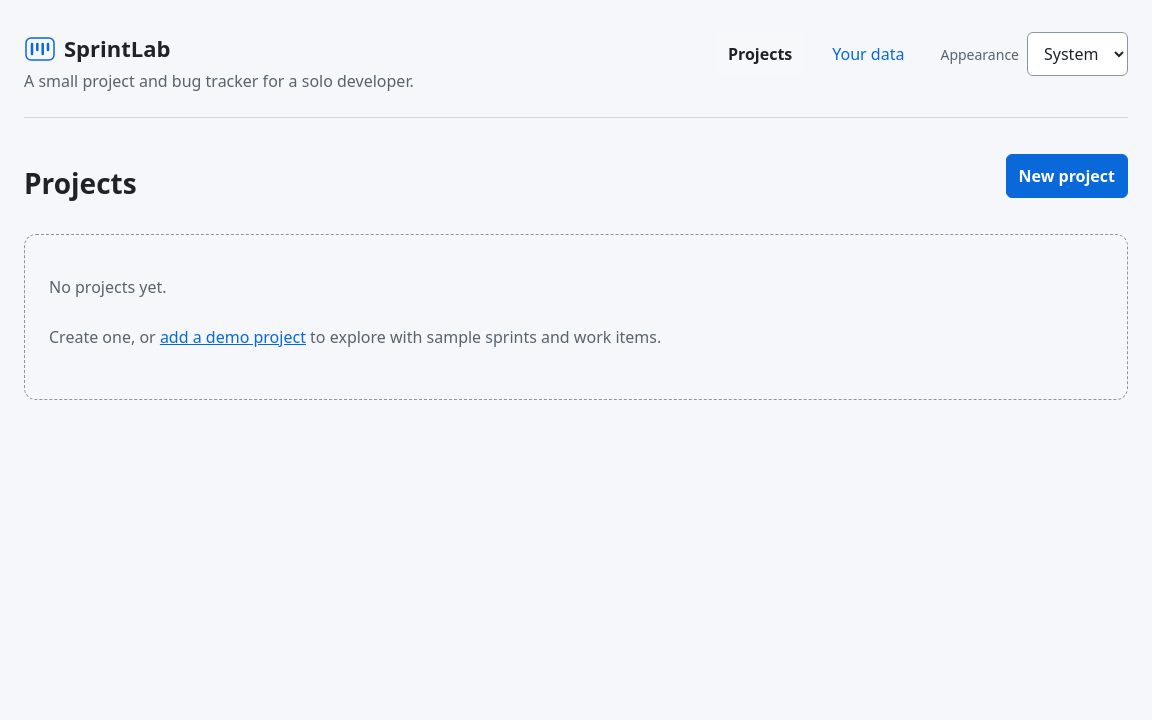
Test case: Projects › edits a project name and updates updatedAt but not createdAt
Click the button "New project": coordinates (1067, 176) [1006,154,1128,198]
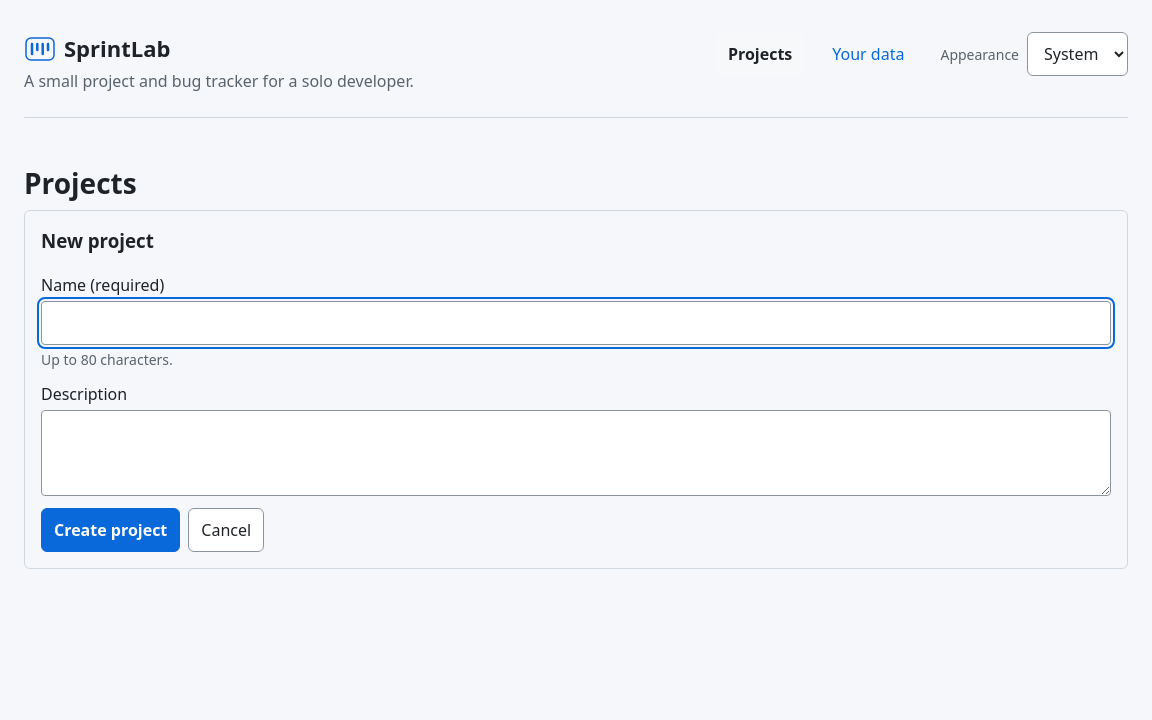
In the field labelled "Name (required)": coordinates (576, 323) [41,301,1111,345], type "Old name"
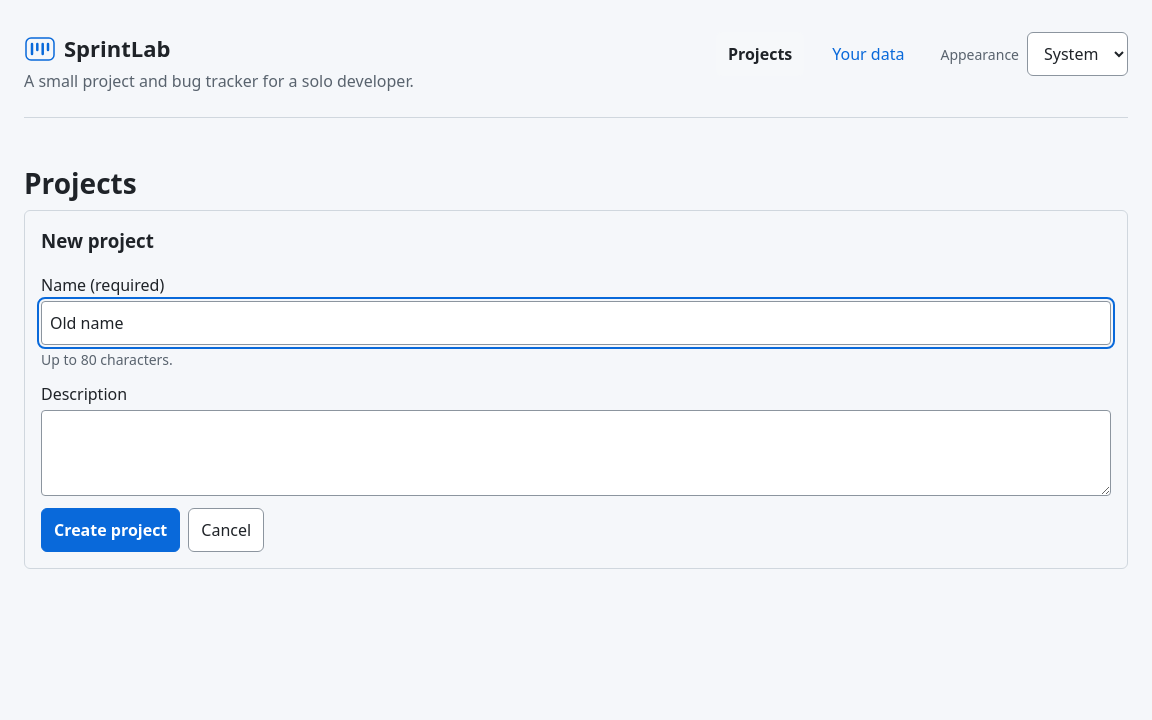
Click the button "Create project": coordinates (111, 530) [41,508,180,552]
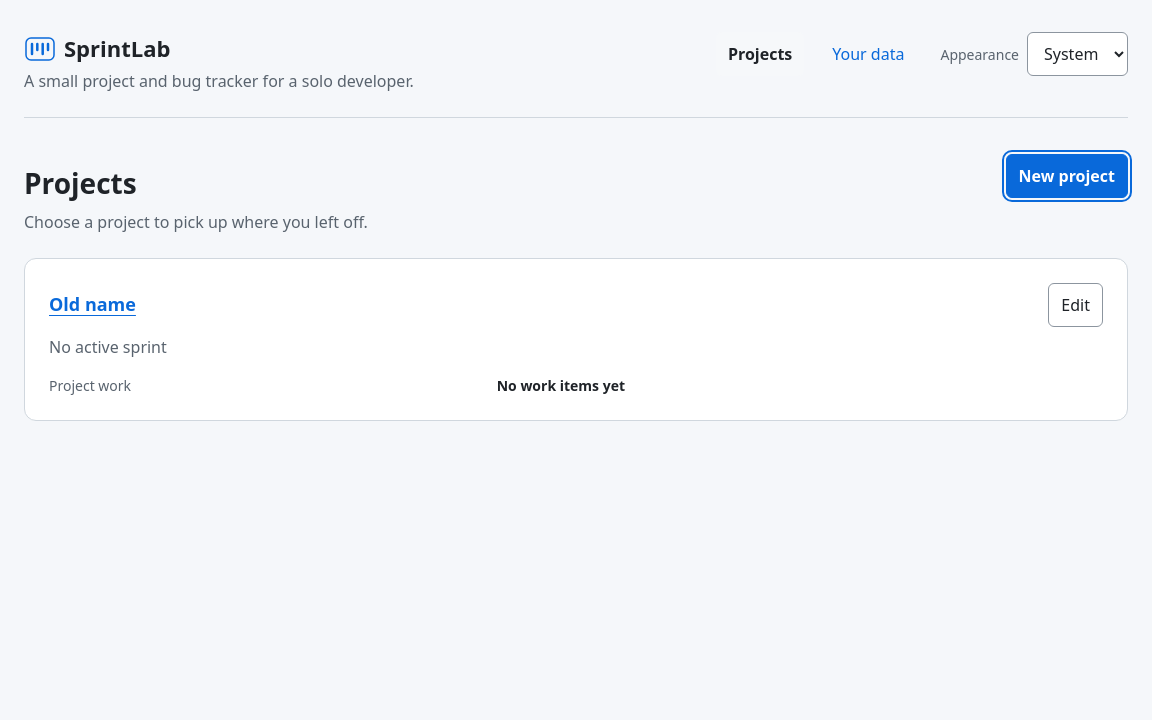
Click the button with aria-label "Edit Old name": coordinates (1076, 305) [1048,283,1103,327]
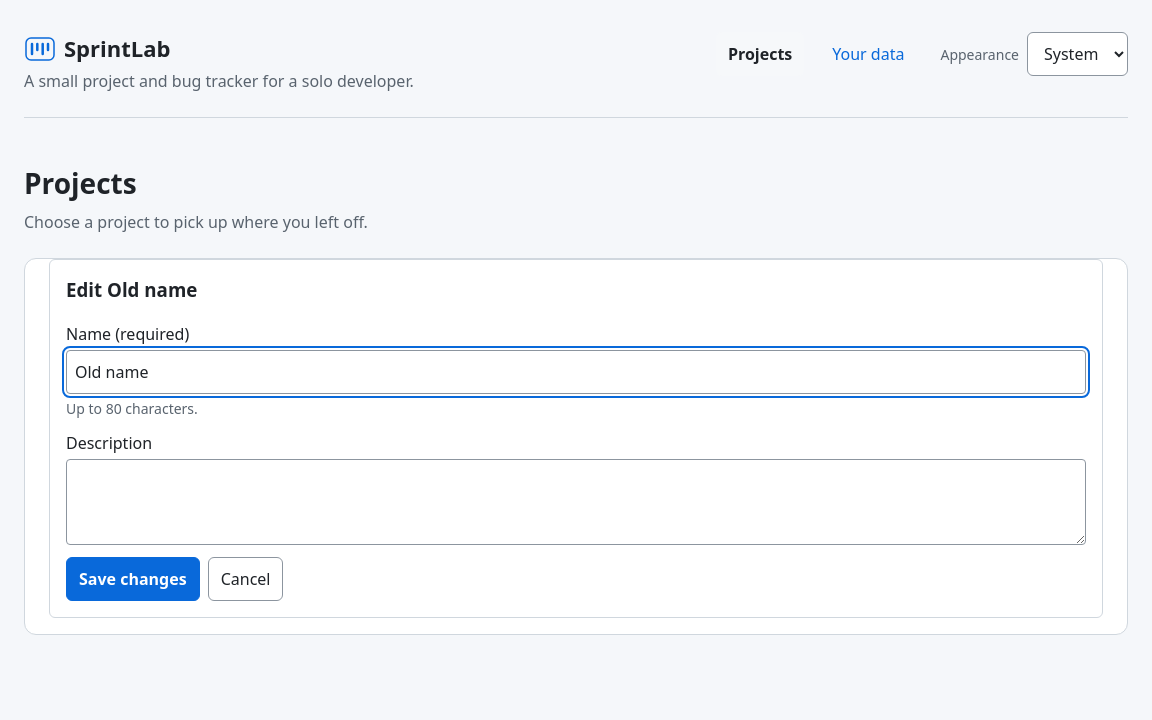
Replace the text in the field labelled "Name (required)" with "New name": coordinates (576, 372) [66,350,1086,394]
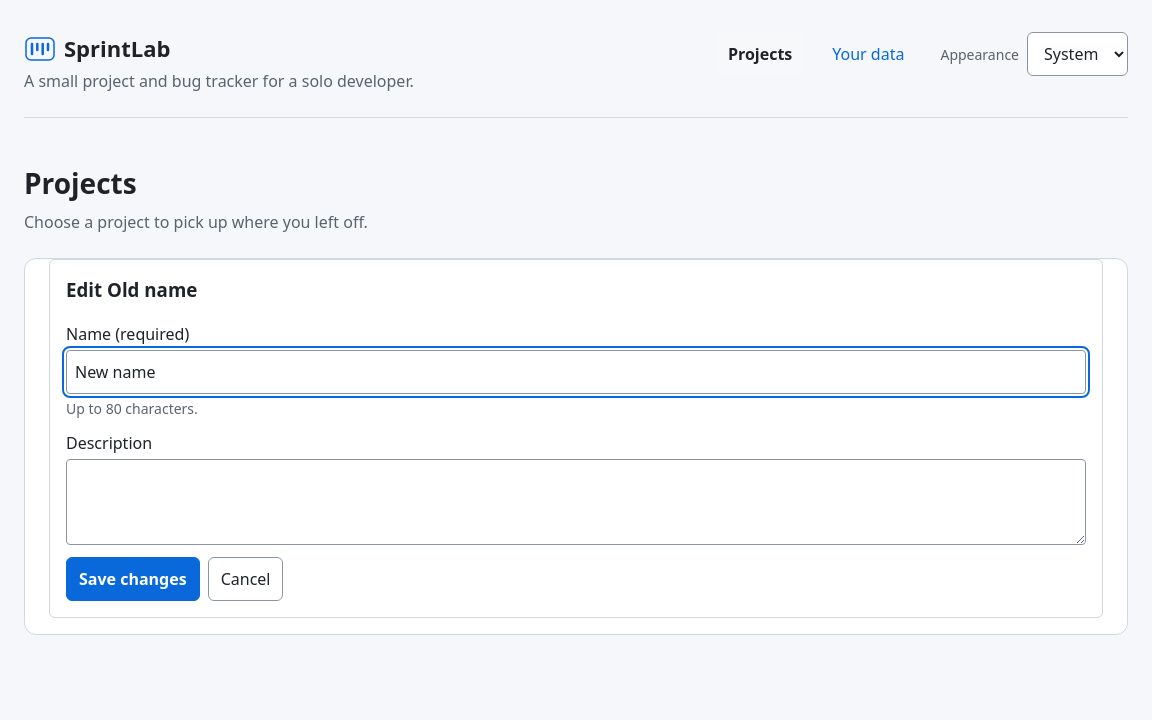
Click the button "Save changes": coordinates (133, 579) [66,557,200,601]
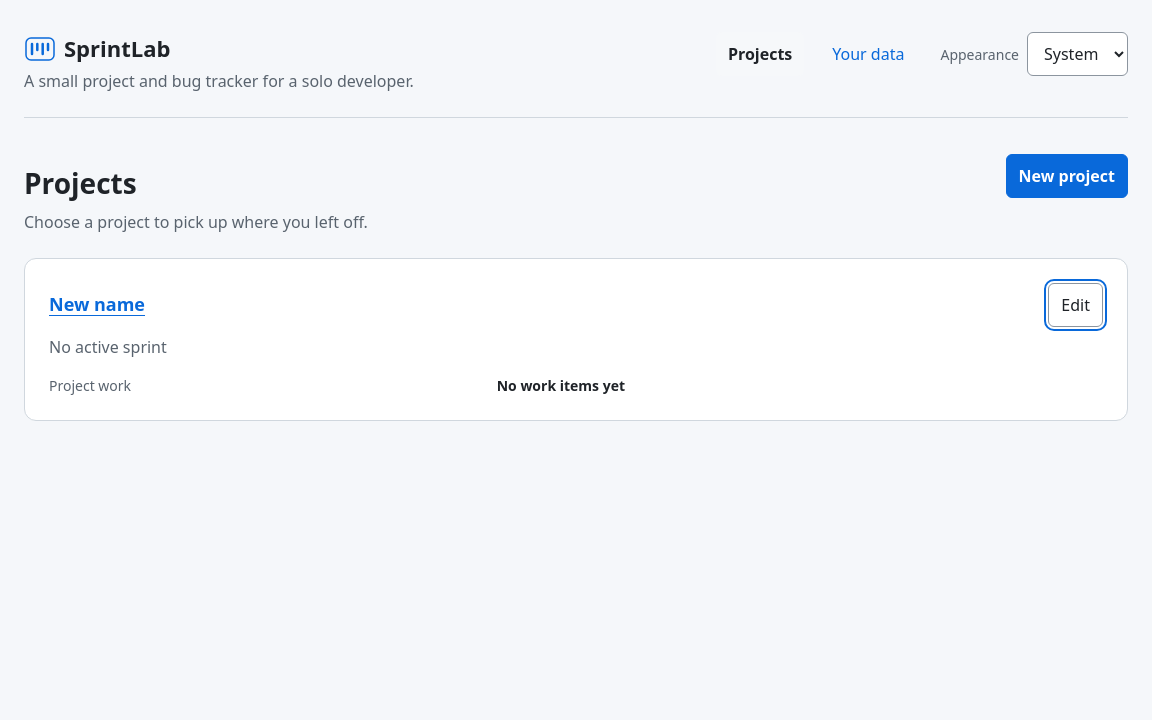
Now the heading "New name" is shown, box [49,292,145,316]
Now the heading "Old name" is gone
